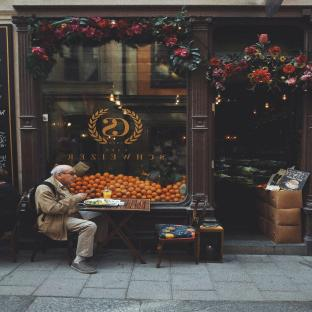Human: (35, 165, 107, 273)
